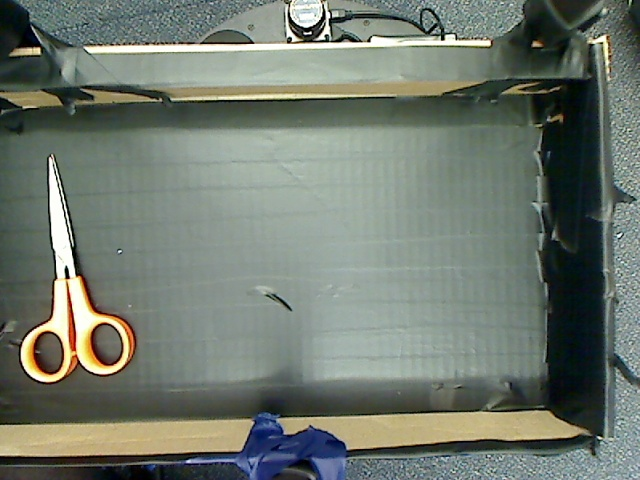scissors: (17, 139, 149, 378)
